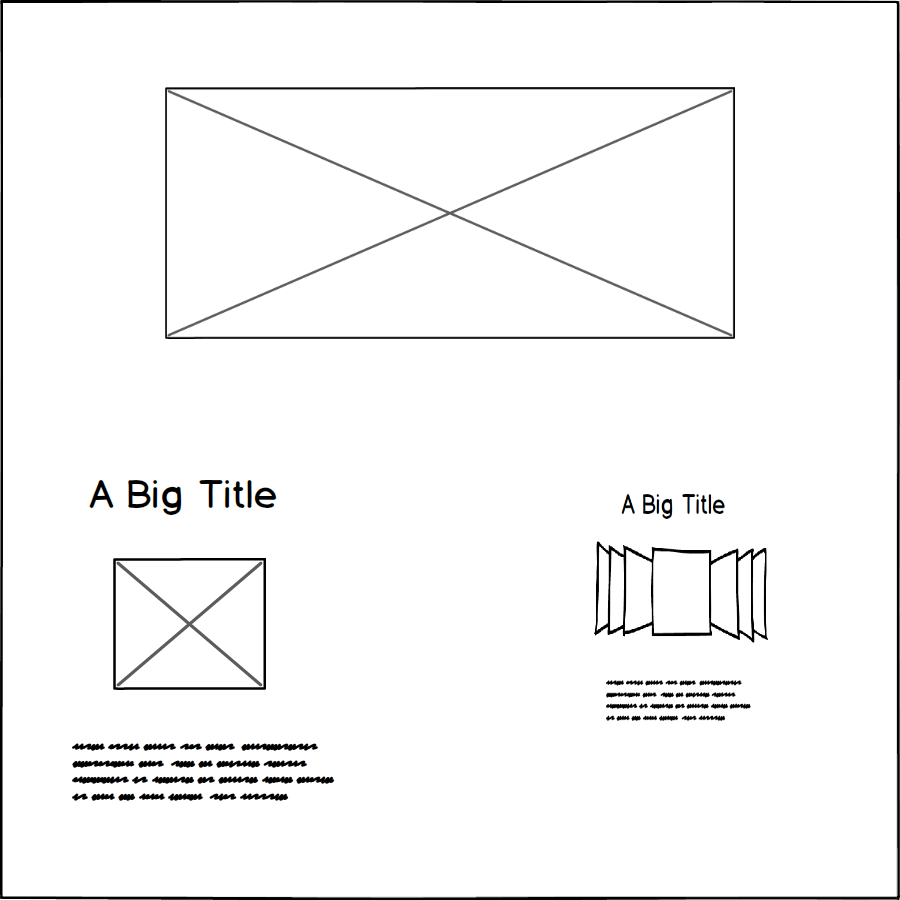h1: (78, 469, 282, 522), (611, 475, 734, 526)
image: (153, 77, 748, 344), (109, 554, 278, 695)
p: (67, 733, 338, 808), (607, 669, 755, 729)
slideshow: (581, 533, 779, 652)
